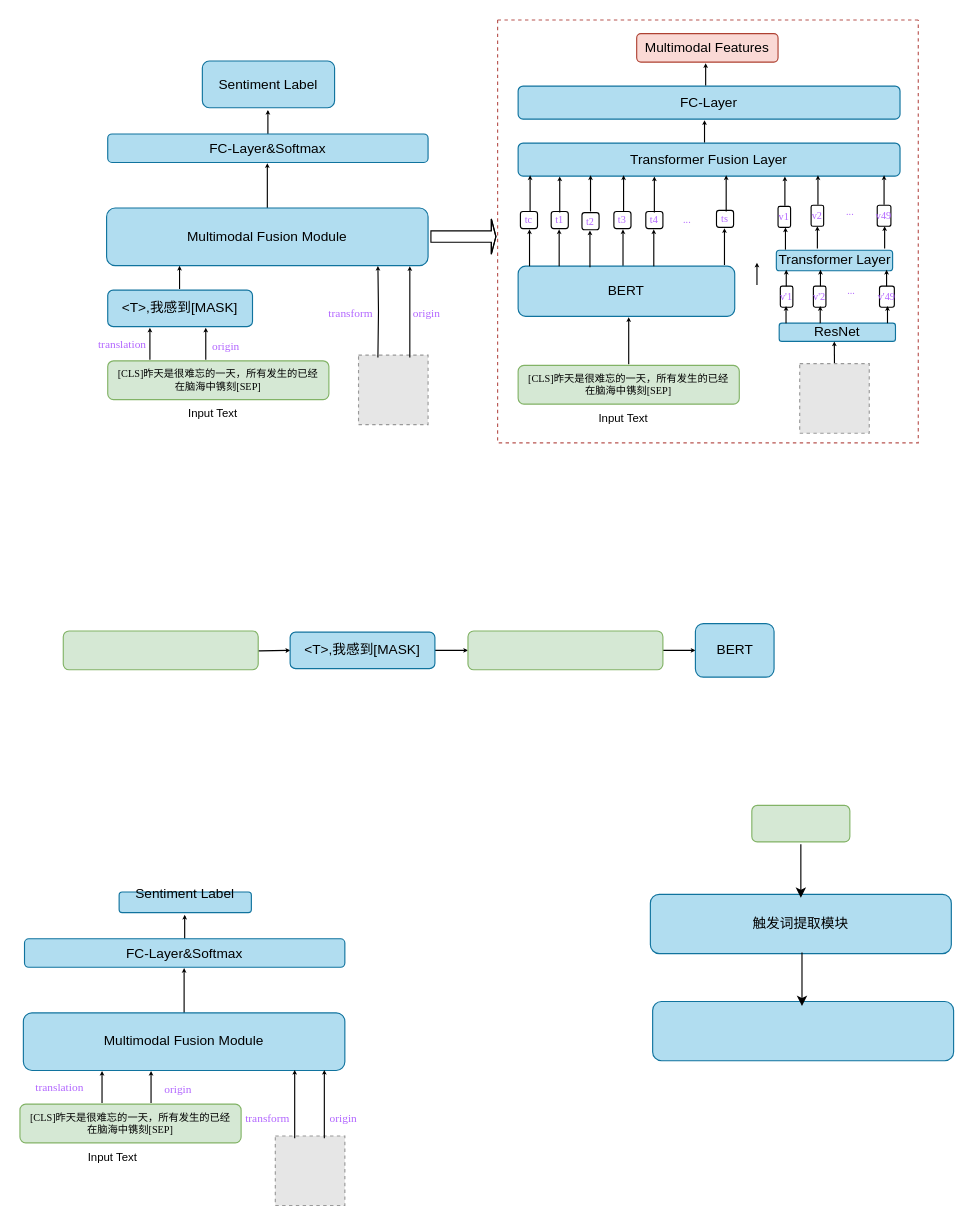
Some shapes in this 974 by 1226 pixel diagram are drawn without their labels. Grey dashed boxes stand in for pictures. Here are the shapes that lost their labels. From the top down, the box of each, then its label:
(62, 630, 258, 670): 昨天是很难忘的一天，所有发生的已经 在脑海中镌刻
(467, 630, 663, 670): 昨天是很难忘的一天，所有发生的已经 在脑海中镌刻，我感到高兴
(751, 804, 850, 842): 输入数据
(652, 1000, 954, 1061): 要素提取模块
